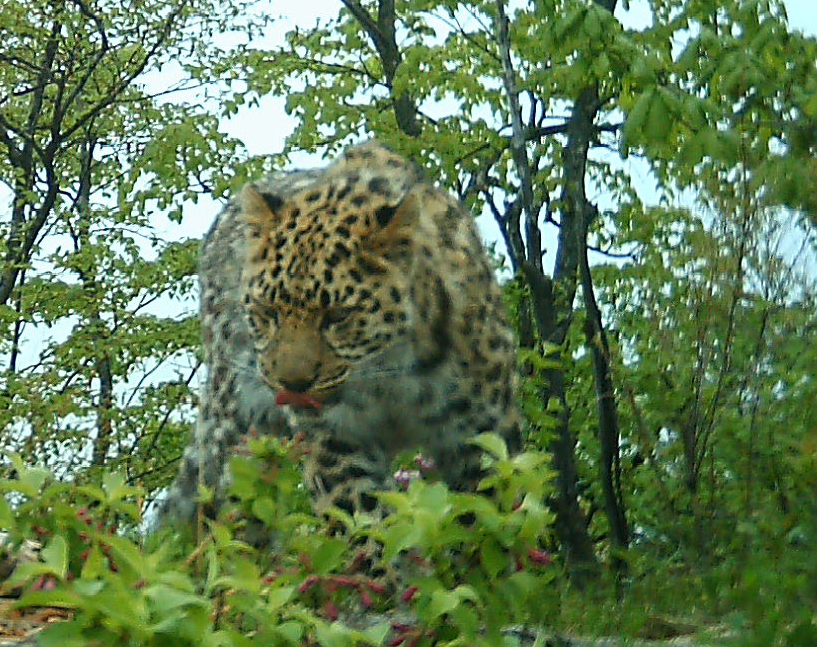amur_leopard: (147, 135, 561, 533)
